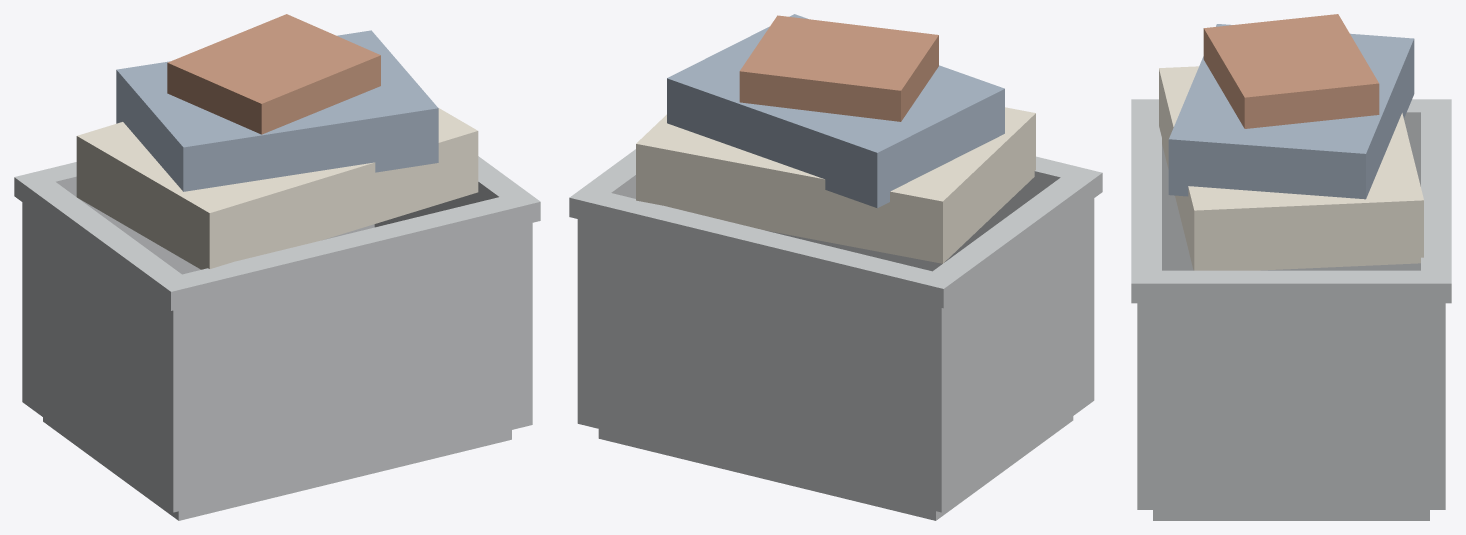
The model's file is laundry-basket.gltf.
The picture shows the model from 3 angles, left to right: view 1: azimuth 30°, elevation 25°; view 2: azimuth 150°, elevation 25°; view 3: azimuth 270°, elevation 25°; orthographic projection. The views are drawn at different scales.
Visible parts, largest first — view 1: wall_b, mound_1, wall_l, mound_2, mound_3, rim_b, rim_l, base, wall_f, rim_r, rim_f, wall_r; view 2: wall_f, mound_1, wall_l, mound_2, mound_3, rim_f, rim_l, base, wall_b, rim_r, rim_b; view 3: wall_r, mound_1, mound_2, mound_3, rim_r, rim_b, rim_f, wall_f, wall_b, wall_l, base, rim_l.
Boxes of the visible parts, <box> form: wall_b: <box>164,223,532,512</box>; mound_1: <box>76,108,478,269</box>; wall_l: <box>32,209,163,505</box>; mound_2: <box>116,30,438,191</box>; mound_3: <box>167,14,380,134</box>; rim_b: <box>156,190,540,310</box>; rim_l: <box>17,178,181,307</box>; base: <box>43,417,511,520</box>; wall_f: <box>22,196,374,408</box>; rim_r: <box>470,156,524,201</box>; rim_f: <box>14,162,76,206</box>; wall_r: <box>374,195,479,227</box>; wall_f: <box>577,219,950,512</box>; mound_1: <box>636,107,1035,263</box>; wall_l: <box>951,205,1084,505</box>; mound_2: <box>667,14,1004,208</box>; mound_3: <box>739,15,938,121</box>; rim_f: <box>569,186,958,308</box>; rim_l: <box>923,168,1098,296</box>; base: <box>598,416,1073,520</box>; wall_b: <box>765,187,1094,407</box>; rim_r: <box>574,149,635,201</box>; rim_b: <box>1023,156,1102,199</box>; wall_r: <box>1156,303,1426,509</box>; mound_1: <box>1159,66,1423,270</box>; mound_2: <box>1168,24,1414,199</box>; mound_3: <box>1203,14,1379,128</box>; rim_r: <box>1137,270,1445,303</box>; rim_b: <box>1131,99,1161,303</box>; rim_f: <box>1421,99,1451,303</box>; wall_f: <box>1426,303,1445,509</box>; wall_b: <box>1137,303,1156,509</box>; wall_l: <box>1162,132,1420,270</box>; base: <box>1153,510,1429,520</box>; rim_l: <box>1137,99,1445,131</box>.
Size of the model in its own units: 0.0354 by 0.0341 by 0.026.
